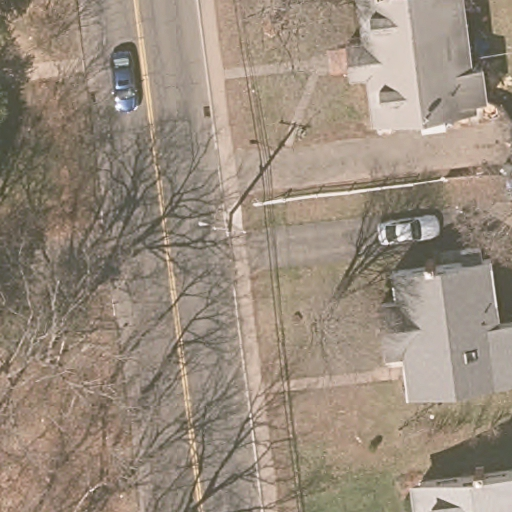DT: (198, 210, 247, 240)
